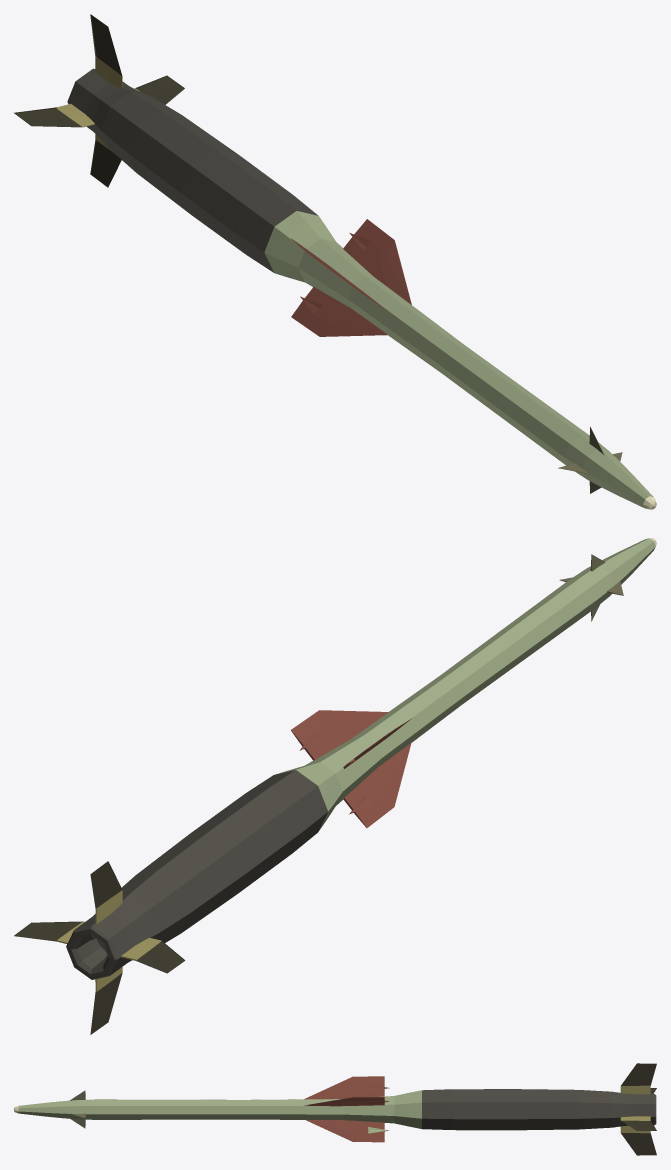
3 renders of one model, top to bottom at view 1: azimuth 30°, elevation 25°; view 2: azimuth 150°, elevation 25°; view 3: azimuth 270°, elevation 25°, orthographic. The views are drawn at different scales.
Parts seen in each view (by area): view 1: 9m311; view 2: 9m311; view 3: 9m311.
Boxes of the visible parts, x1,y1,x2,y2 form: 9m311: [14, 14, 656, 509]; 9m311: [14, 538, 656, 1034]; 9m311: [14, 1063, 656, 1155].
Bounding box in the file's own units: 49.56 × 49.56 × 314.
